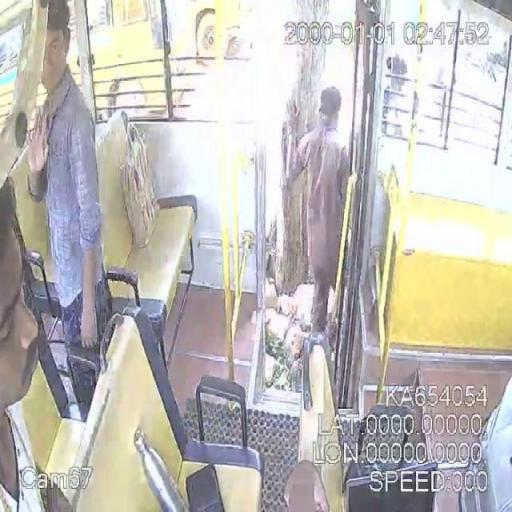persona: (25, 1, 106, 357), (290, 85, 353, 339)
